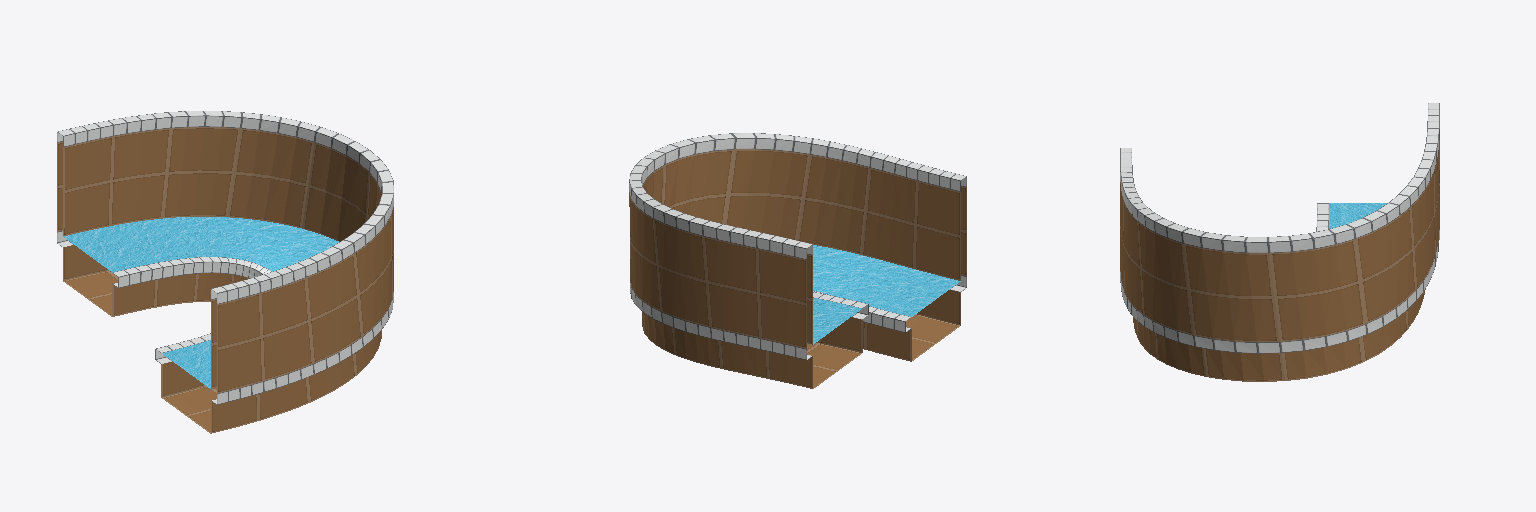
3 renders of one model, left to right at view 1: azimuth 30°, elevation 25°; view 2: azimuth 150°, elevation 25°; view 3: azimuth 270°, elevation 25°, orthographic.
Parts seen in each view (by area): view 1: Cube_Cube.002; view 2: Cube_Cube.002; view 3: Cube_Cube.002.
Part boxes in pixels (x1,y1,x2,y2): Cube_Cube.002: (57,111,393,433); Cube_Cube.002: (629,133,966,388); Cube_Cube.002: (1120,103,1439,381).
Size of the model in its own units: 11.18 by 8.5 by 13.
Materials: 3 (3 with a texture image).